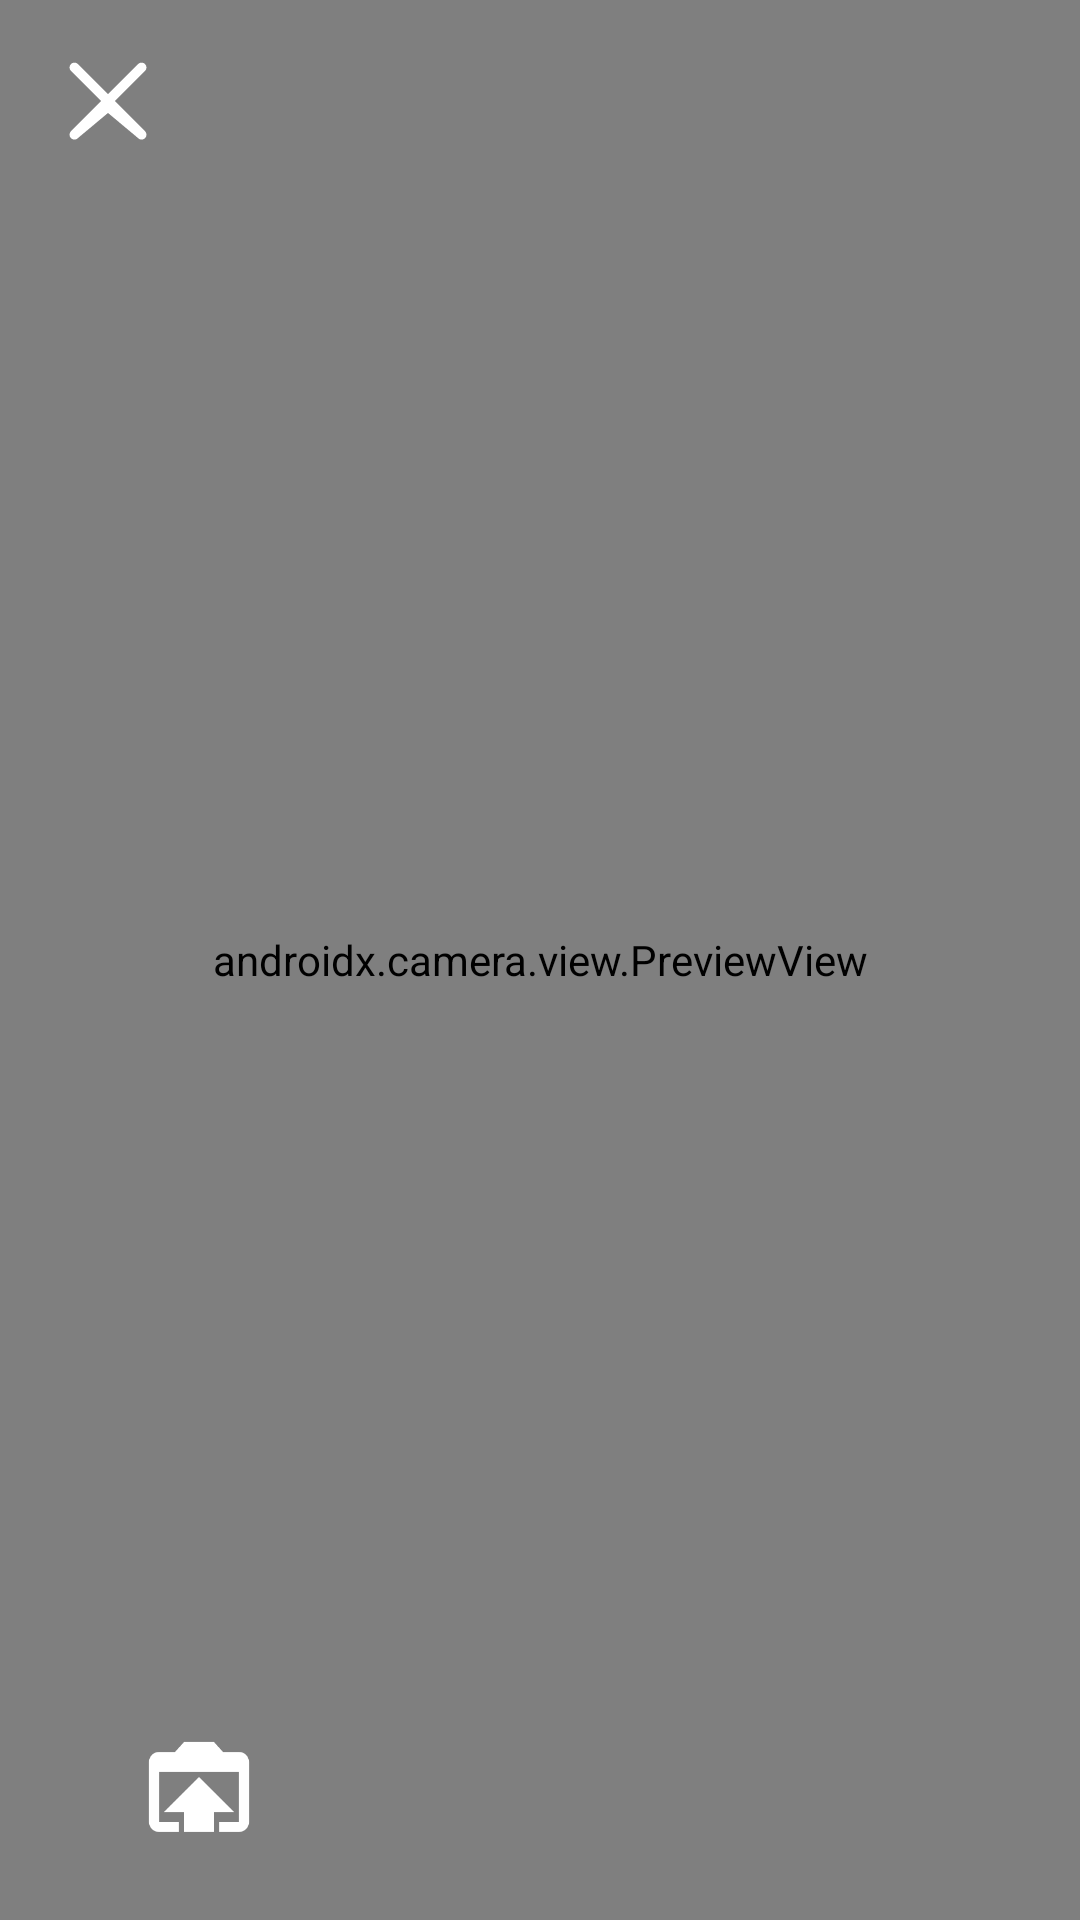

Icon click points for this 1080 × 1920 phone screenshot, format [x,y]:
close: [108,101]
upload: [199,1787]
